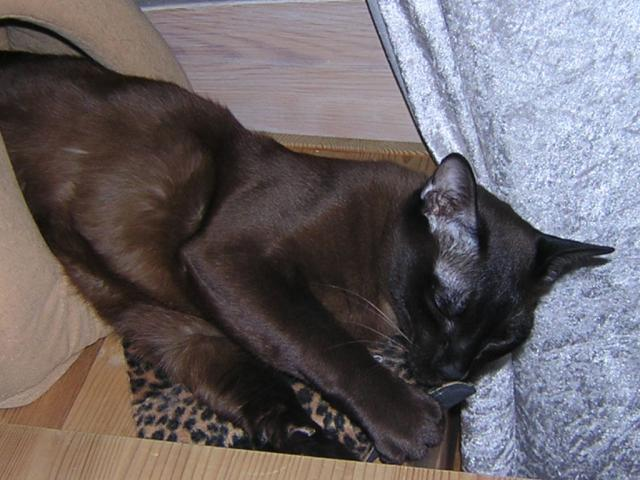Cat: (0, 50, 617, 462)
